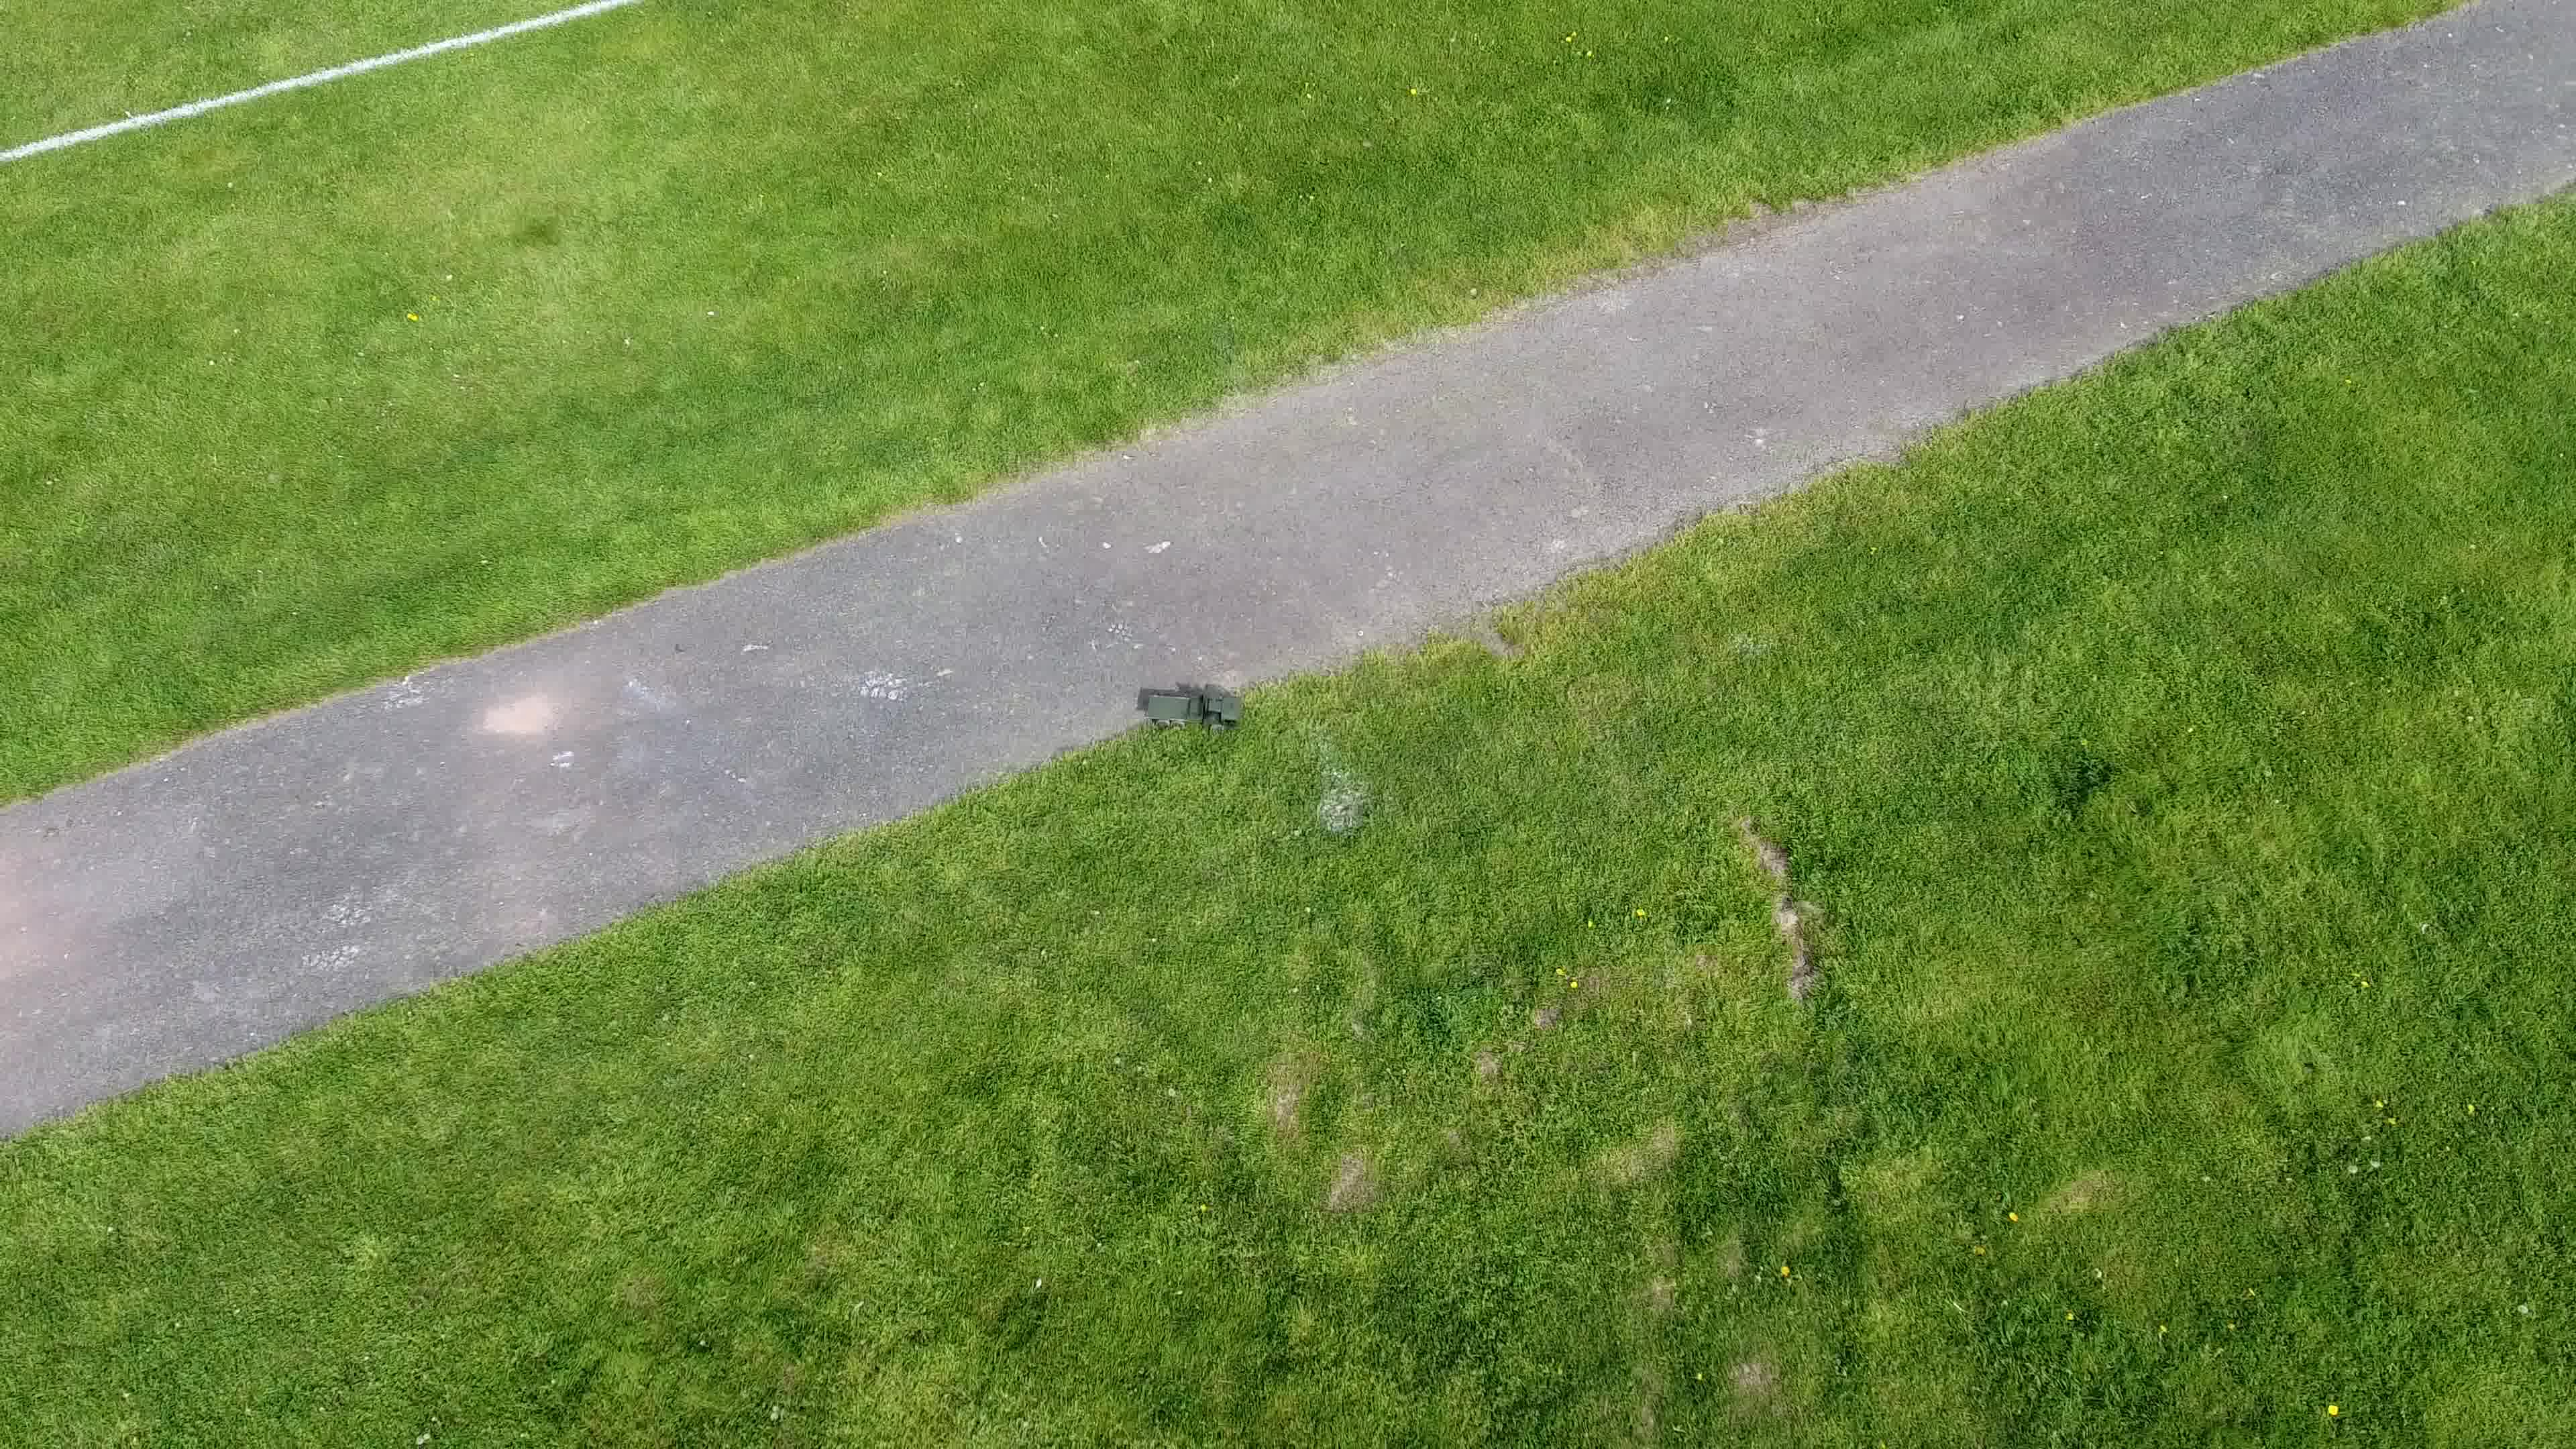transporter9: (1141, 686, 1247, 736)
